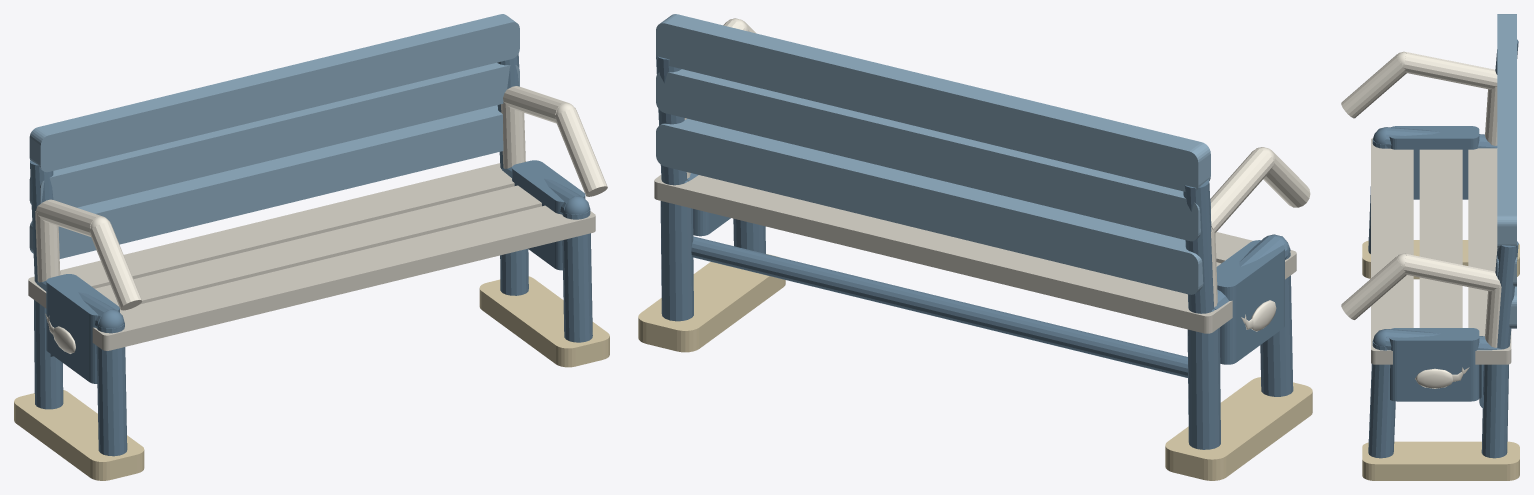
The model's file is library_bench.glb.
3 views of the same model, side by side, from view 1: azimuth 30°, elevation 25°; view 2: azimuth 150°, elevation 25°; view 3: azimuth 270°, elevation 25° (orthographic). The views are drawn at different scales.
Visible parts, largest first — view 1: decor_466a88_matte, decor_aaa493_matte, decor_29445e_matte, decor_bca46d_metal, decor_e0d7bf_matte; view 2: decor_466a88_matte, decor_29445e_matte, decor_aaa493_matte, decor_bca46d_metal, decor_e0d7bf_matte; view 3: decor_aaa493_matte, decor_29445e_matte, decor_e0d7bf_matte, decor_bca46d_metal, decor_466a88_matte.
Part boxes in pixels (x1,y1,x2,y2): decor_466a88_matte: (29, 14, 519, 258); decor_aaa493_matte: (28, 163, 595, 350); decor_29445e_matte: (30, 54, 592, 456); decor_bca46d_metal: (14, 276, 609, 480); decor_e0d7bf_matte: (35, 86, 607, 353); decor_466a88_matte: (656, 14, 1210, 294); decor_29445e_matte: (656, 55, 1293, 449); decor_aaa493_matte: (654, 175, 1296, 333); decor_bca46d_metal: (638, 254, 1312, 480); decor_e0d7bf_matte: (684, 18, 1310, 331); decor_aaa493_matte: (1371, 138, 1511, 364); decor_29445e_matte: (1368, 39, 1518, 458); decor_e0d7bf_matte: (1341, 51, 1501, 388); decor_bca46d_metal: (1362, 240, 1519, 480); decor_466a88_matte: (1497, 14, 1516, 328).
Size of the model in its own units: 2.29 by 1.21 by 0.7711.
